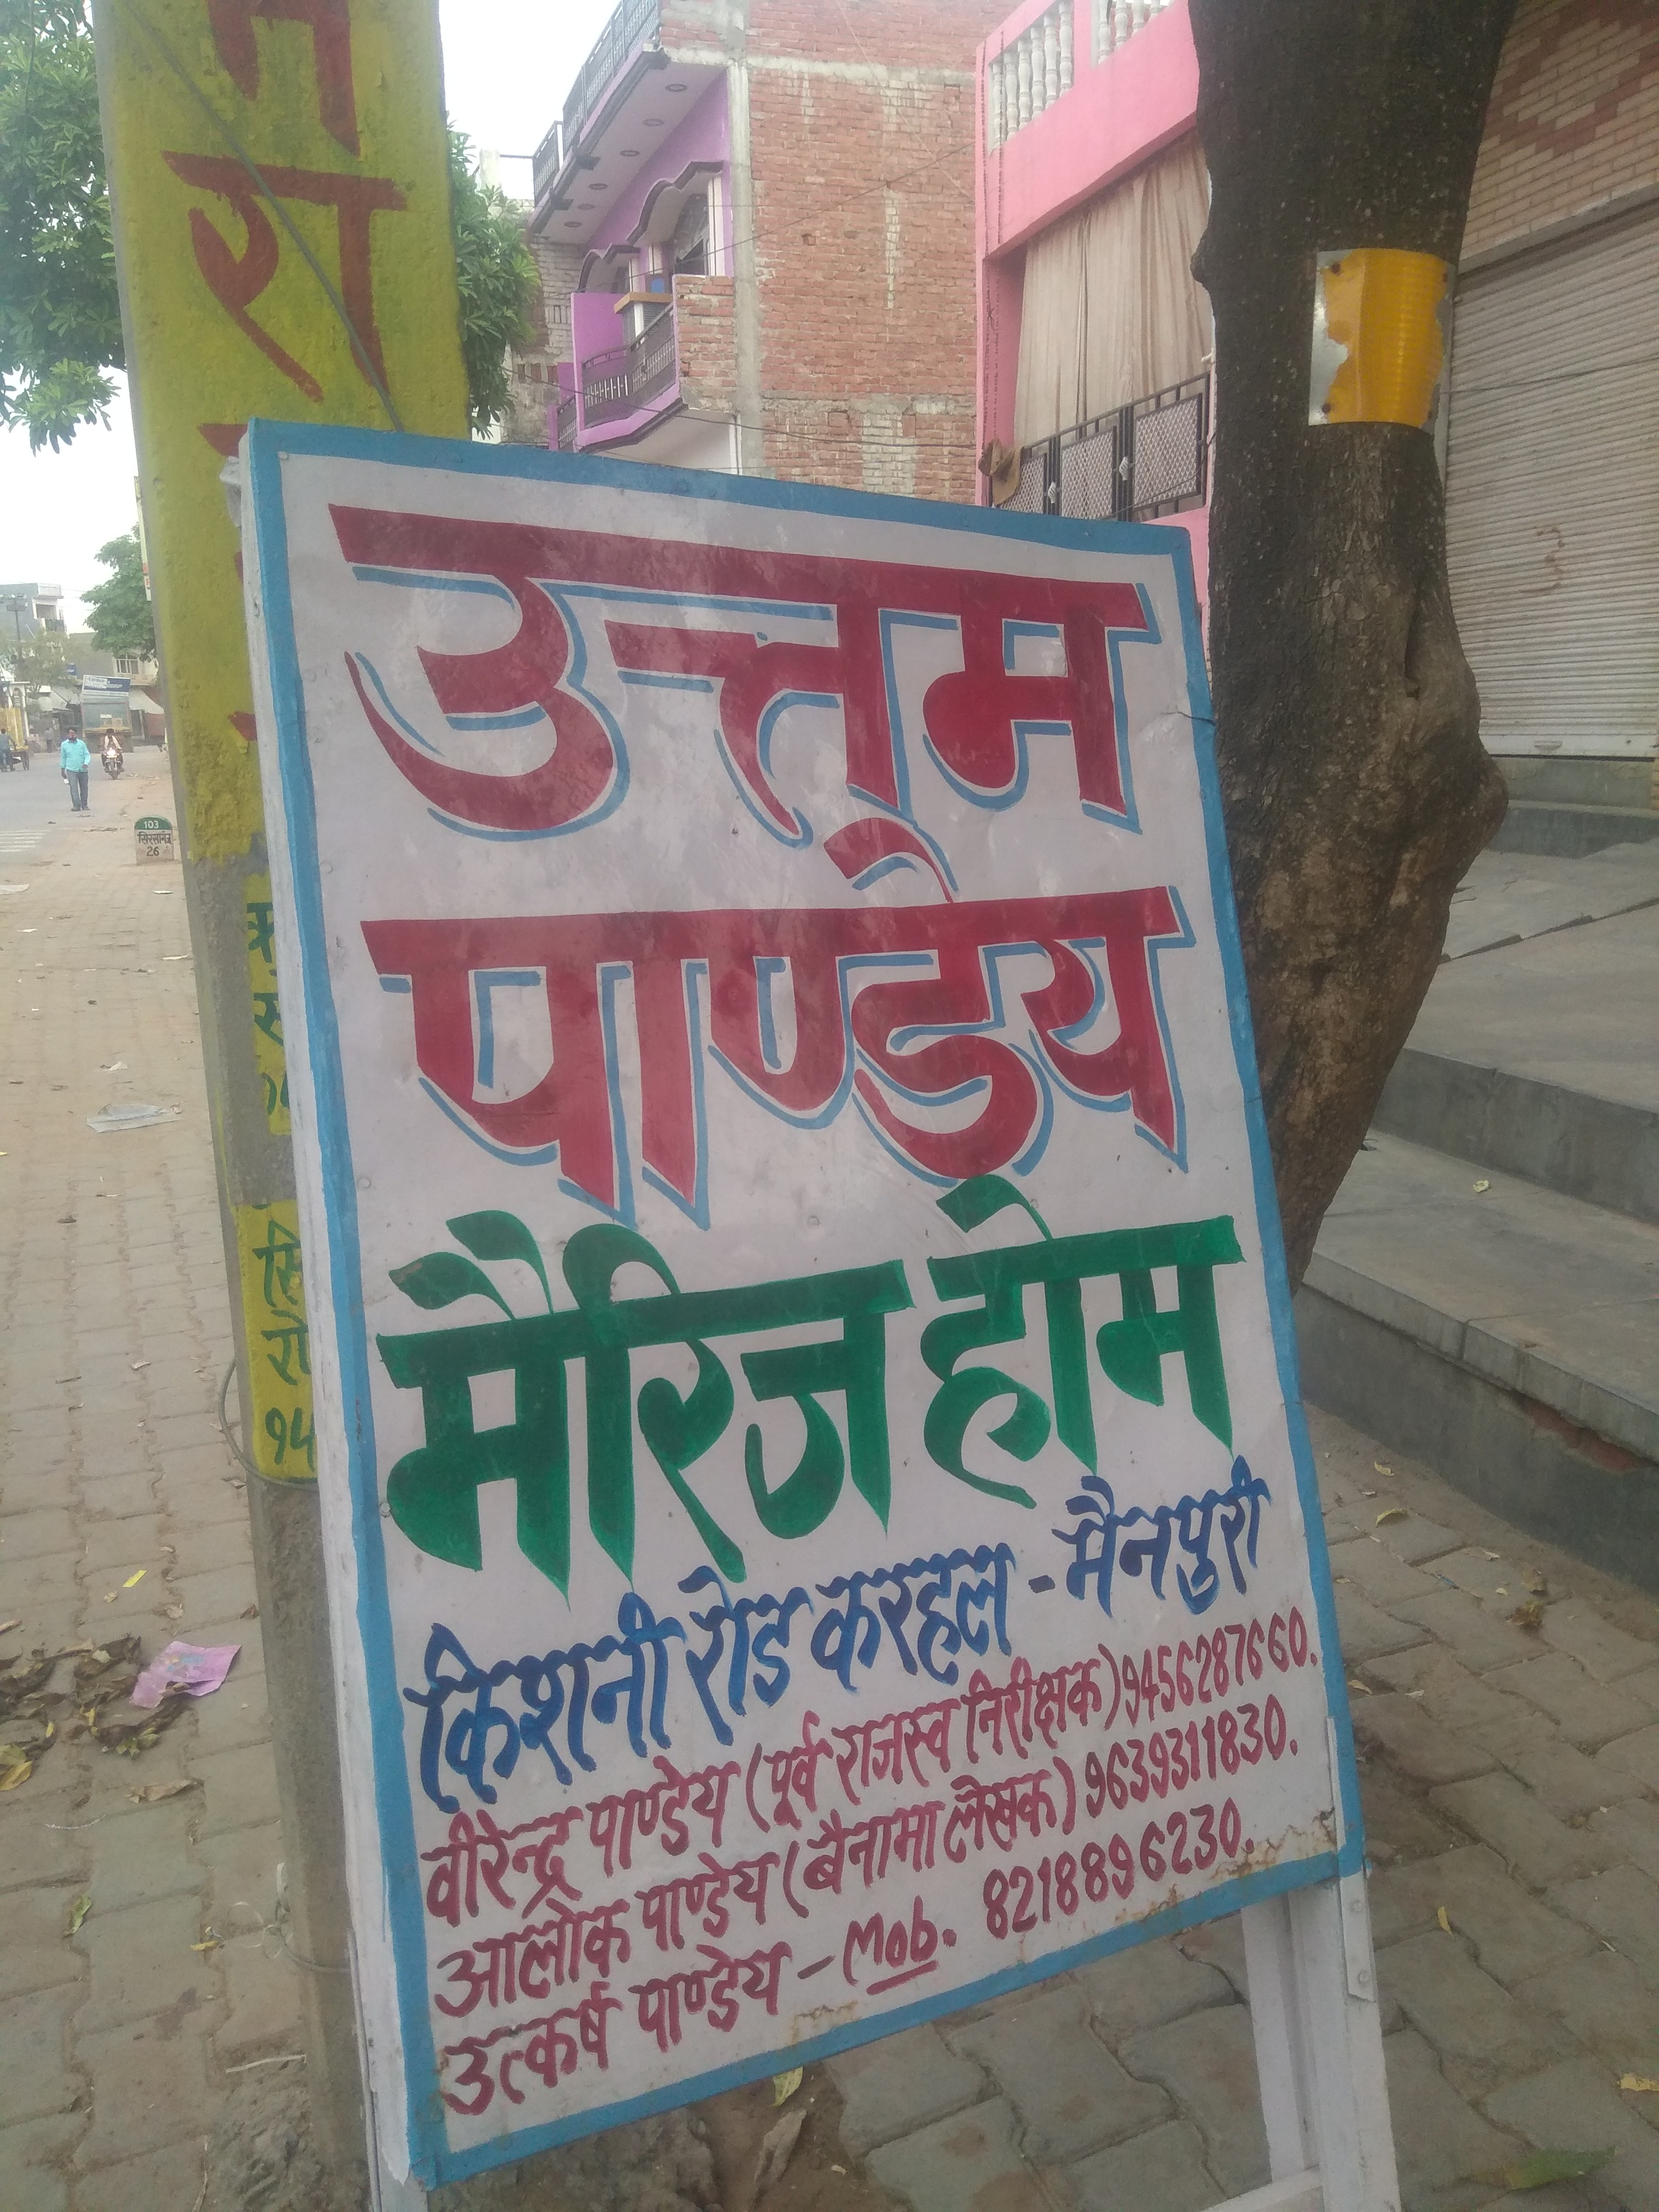text: (240, 418, 1375, 2175)
